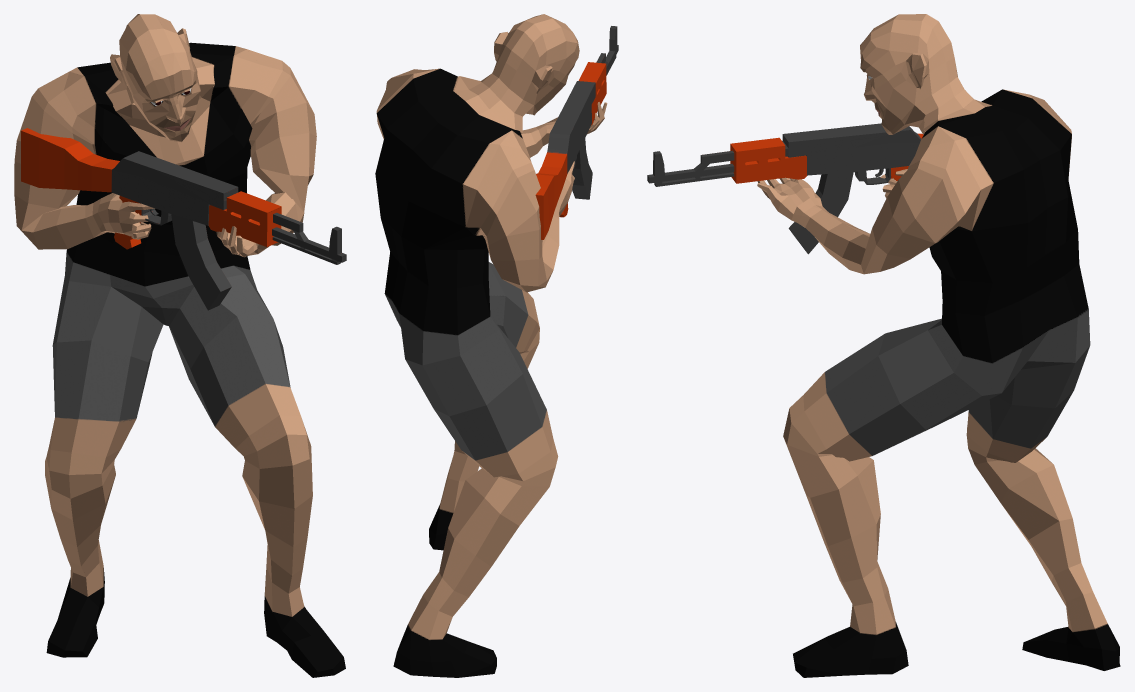
Rendered from PlayerWalk(2).obj.
3 views of the same model, side by side, from view 1: azimuth 30°, elevation 25°; view 2: azimuth 150°, elevation 25°; view 3: azimuth 270°, elevation 25° (orthographic). The views are drawn at different scales.
Visible parts, largest first — view 1: Plane002, Object001; view 2: Plane002, Object001; view 3: Plane002, Object001.
Part boxes in pixels (x1,y1,x2,y2): Plane002: (14,14,345,677); Object001: (21,128,346,310); Plane002: (375,14,607,677); Object001: (535,26,618,239); Plane002: (757,14,1120,677); Object001: (647,123,923,254).
Bounding box in the file's own units: 575 × 1596 × 1070.
